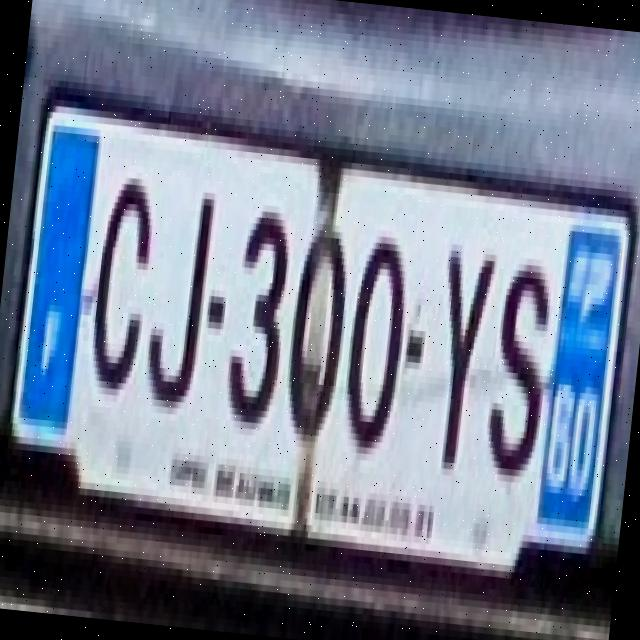EU: (7, 122, 625, 564)
France: (18, 128, 103, 434)
